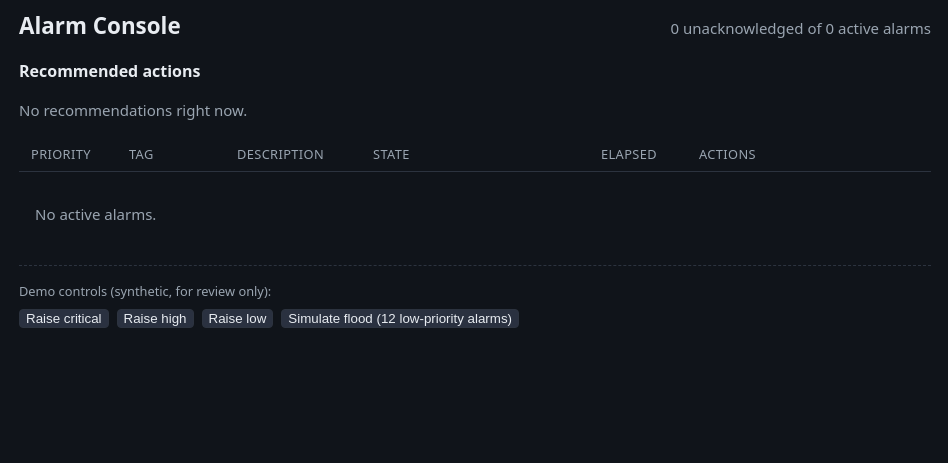
Test case: AlarmConsole › accepting an ESCALATE recommendation acknowledges the alarm and logs an escalate decision
Click the button "Raise critical".
click(64, 319)  # box [19,309,108,328]
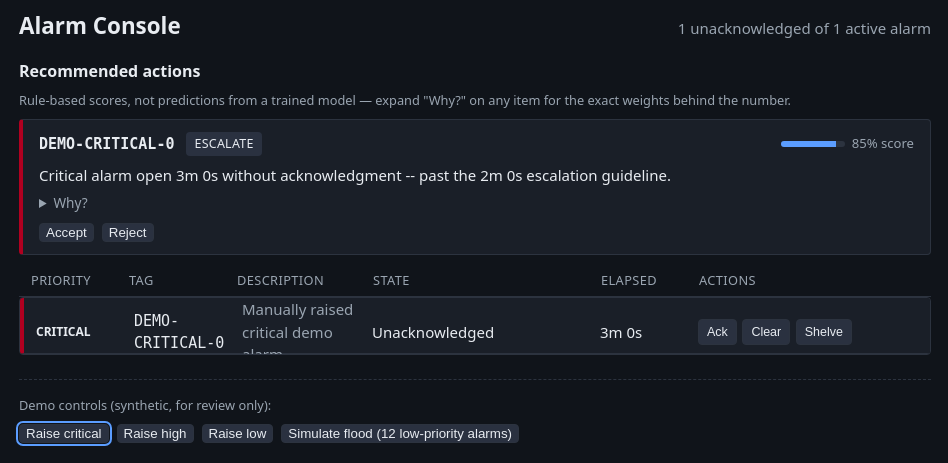
Expected: the text "Escalate" is shown, [186,132,262,156]
Click the button with aria-label "Accept recommendation for".
click(66, 232)  # box [39,223,94,242]
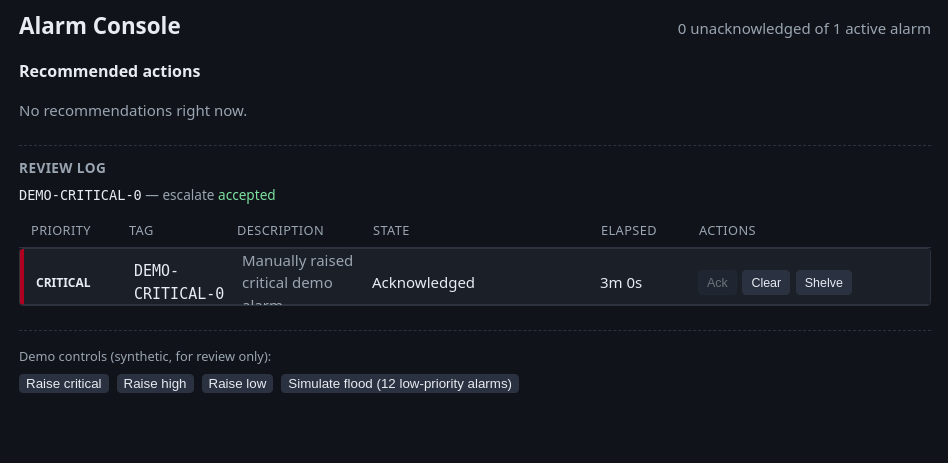
Expected: the text "Acknowledged" is shown, [372,272,475,292]
Expected: the list item "DEMO-CRITICAL-0 — escalate accepted" is shown, [19,185,276,204]
